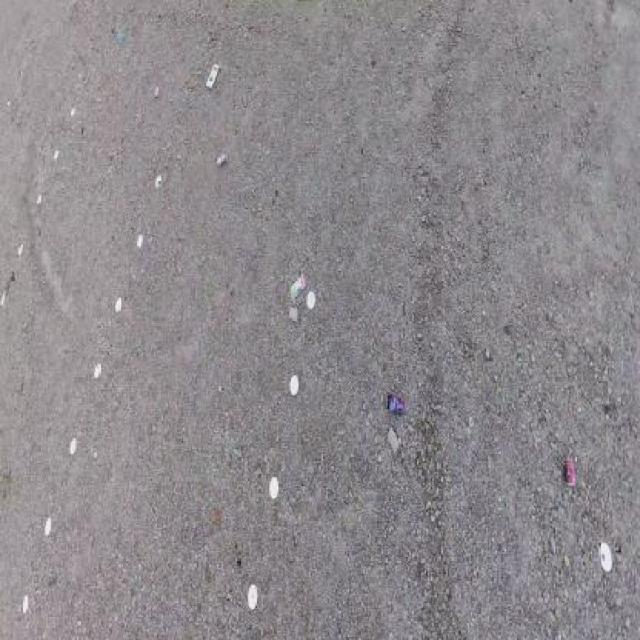Garbage: (290, 272, 306, 302), (386, 426, 400, 457), (386, 394, 405, 415), (564, 457, 576, 487), (206, 63, 219, 90), (115, 30, 126, 48), (289, 306, 298, 322), (217, 152, 227, 166), (154, 85, 159, 98), (469, 417, 474, 429)
